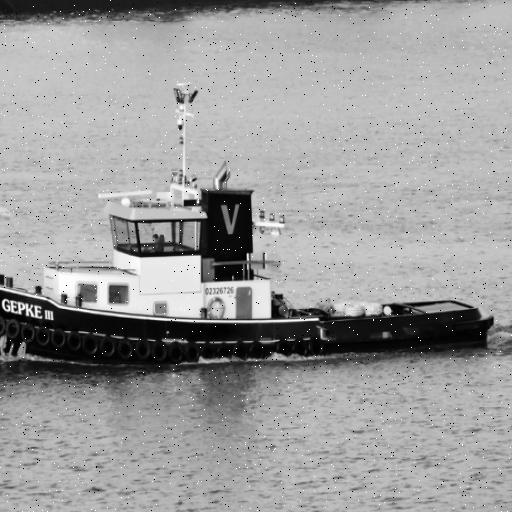tugboat: (1, 168, 501, 387)
